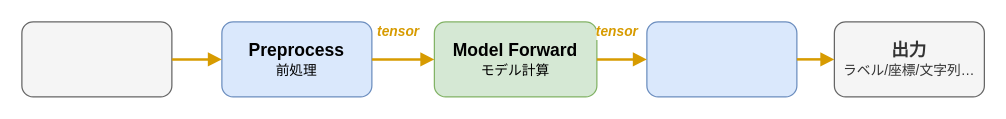
Some shapes in this 1006 by 119 pixel diagram are drawn without their labels. The shapes that lost their labels are listed below. From the top down, each one's box as (x1, y1, x2, y2) in pixels, then its label:
(21, 21, 172, 97): 入力 テキスト/画像/音声…
(646, 21, 797, 97): Postprocess 後処理
